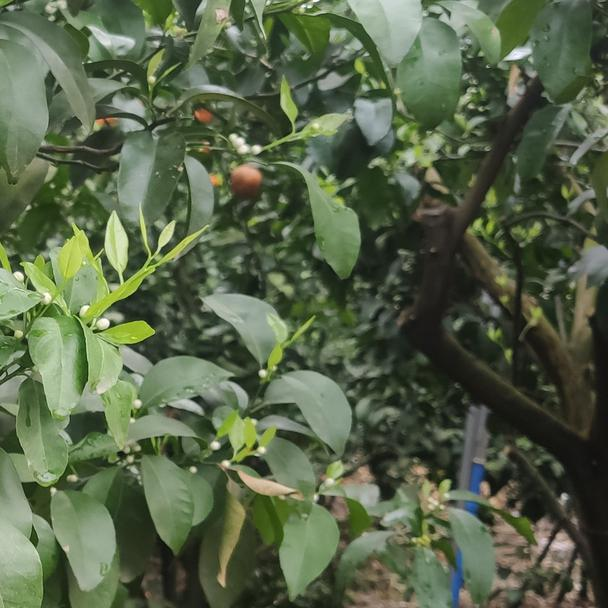shoot: (85, 205, 221, 323), (38, 219, 88, 299)
